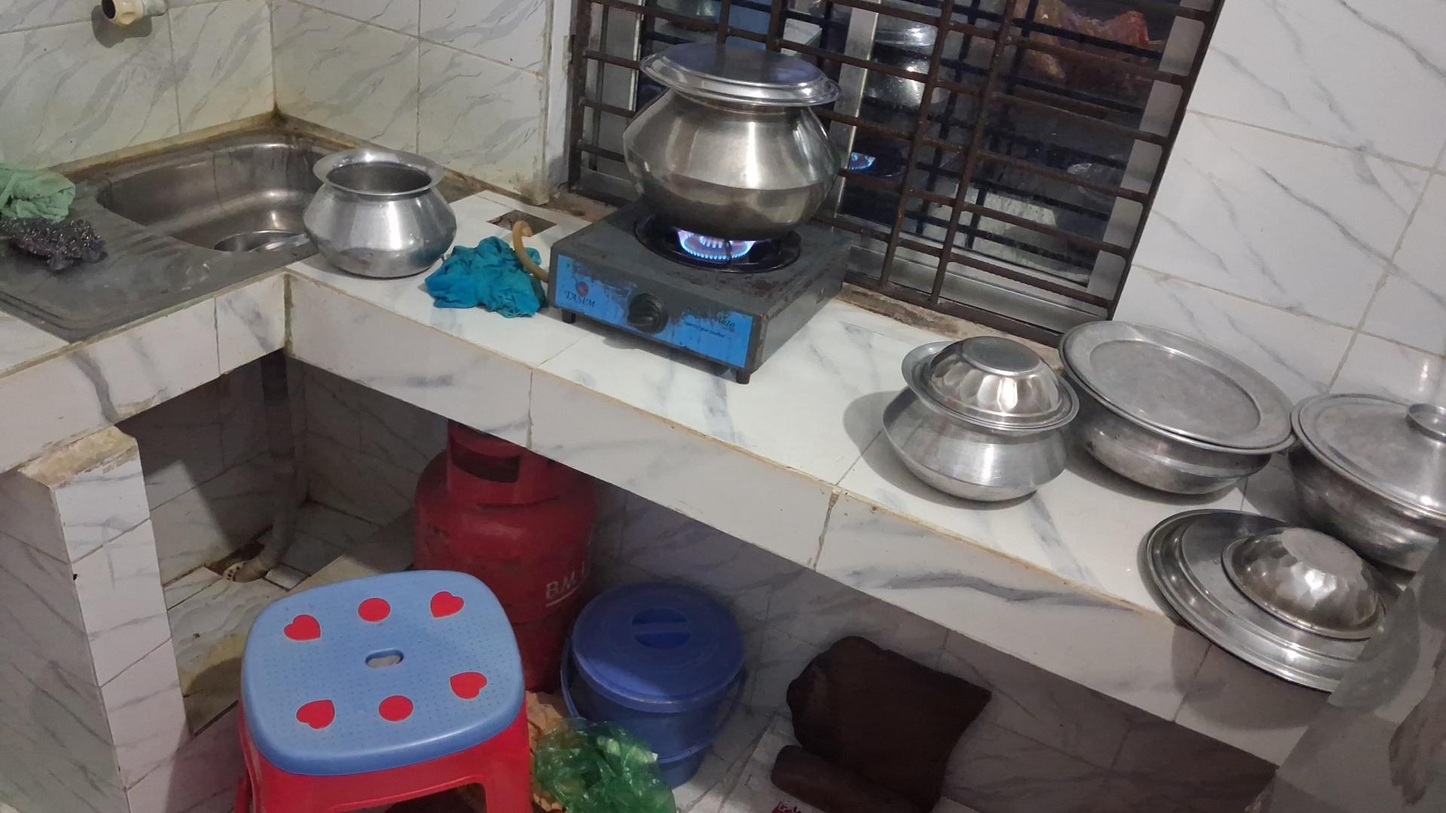Bowl: (1217, 517, 1397, 638)
Bucket: (565, 585, 750, 788)
Plate: (1148, 504, 1414, 704)
Pot: (624, 34, 844, 236), (1059, 318, 1295, 497), (878, 337, 1074, 510), (1288, 391, 1445, 573), (302, 148, 457, 280)
Stool: (244, 576, 529, 813)
